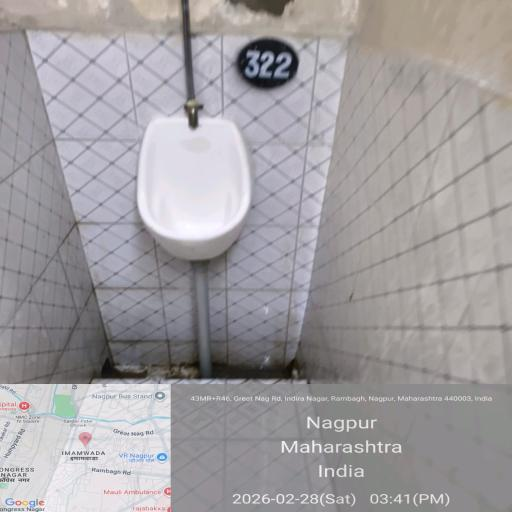clean_floor: (267, 81, 512, 322), (0, 85, 147, 349)
clean_urinal: (149, 118, 247, 249)
partial_dirty_floor: (0, 0, 484, 62), (52, 344, 326, 392)
